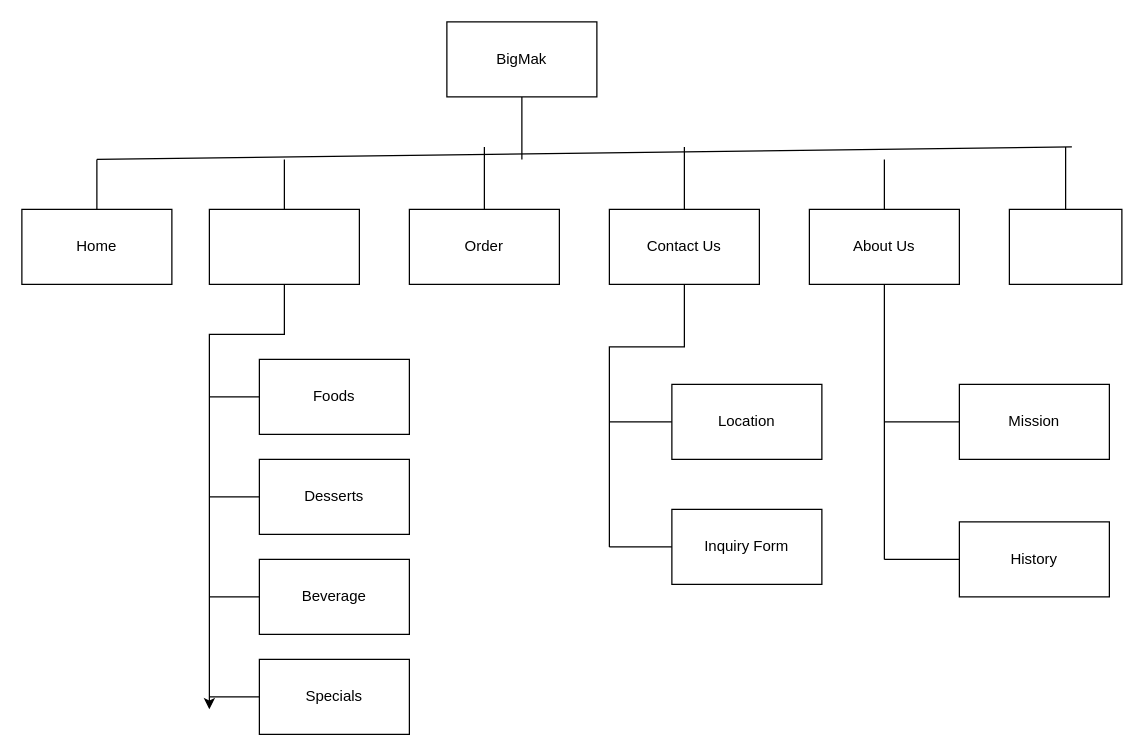
This 1144x756 diagram has some shape labels left out. The shapes that lost their labels are listed below. From the top down, each one's box as (x1, y1, x2, y2) in pixels, then its label:
(208, 208, 359, 284): Menu
(1008, 208, 1122, 284): Sign in
